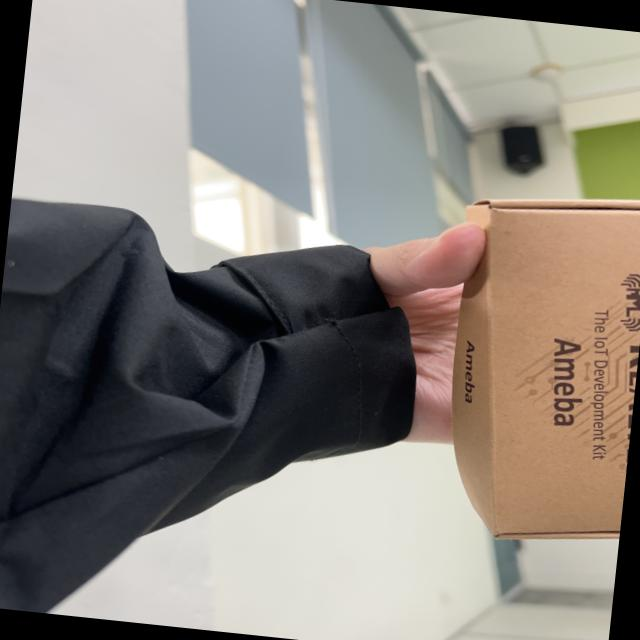box: (381, 158, 640, 576)
